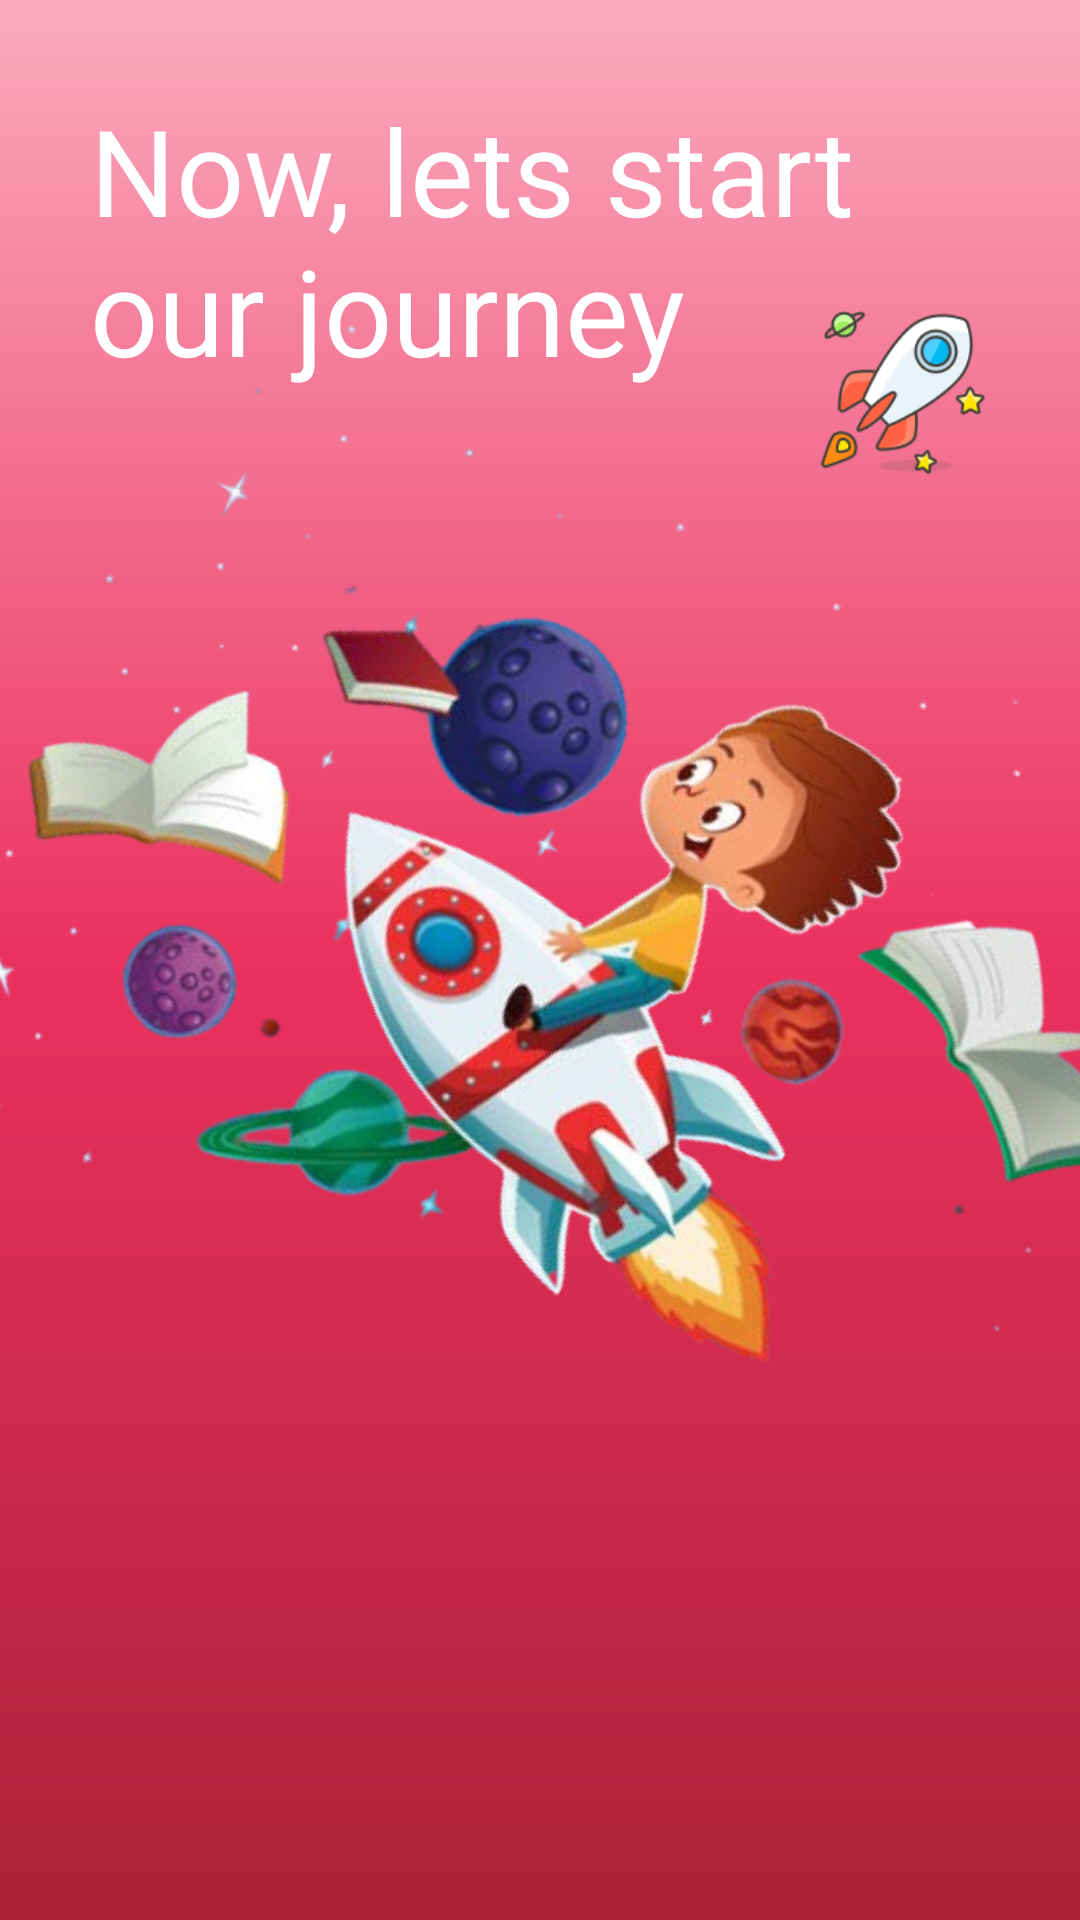

Icon bounding boxes for this 1080*1920 phone screenshot, format {"x1": x1, "y1": y1, "x2": x2, "y2": y2}:
rocket: {"x1": 810, "y1": 310, "x2": 990, "y2": 480}
